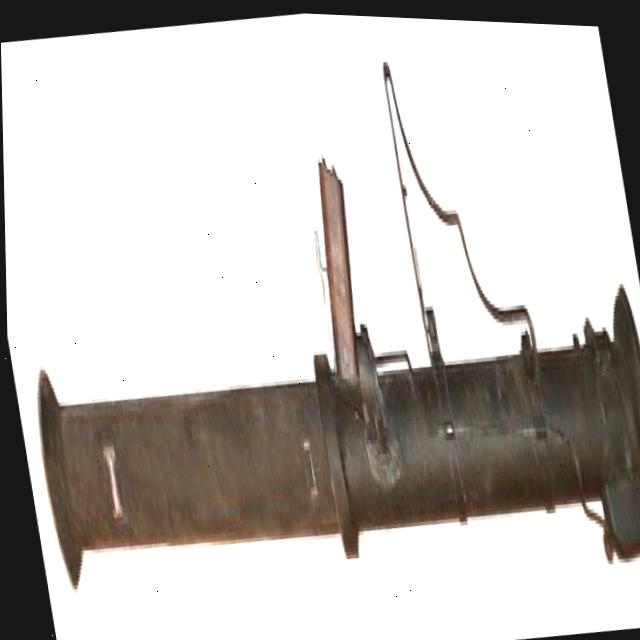rocket: (0, 14, 640, 640)
